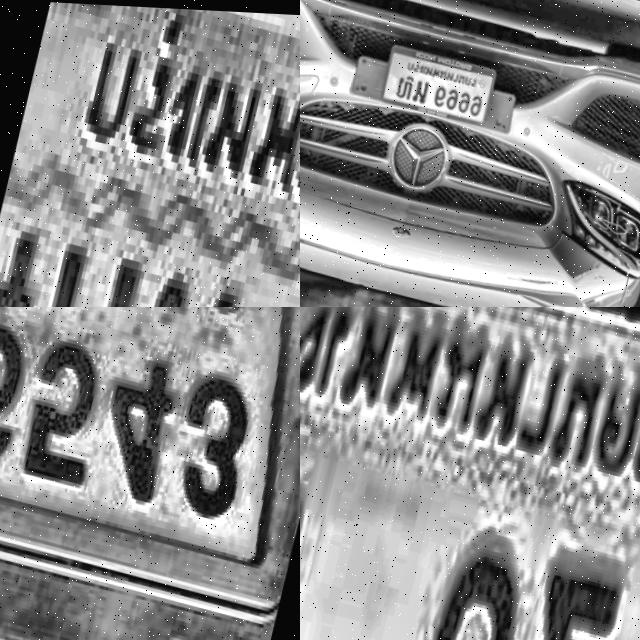license-plate: (300, 307, 640, 640), (0, 307, 300, 640), (0, 0, 300, 307), (377, 38, 500, 126)
